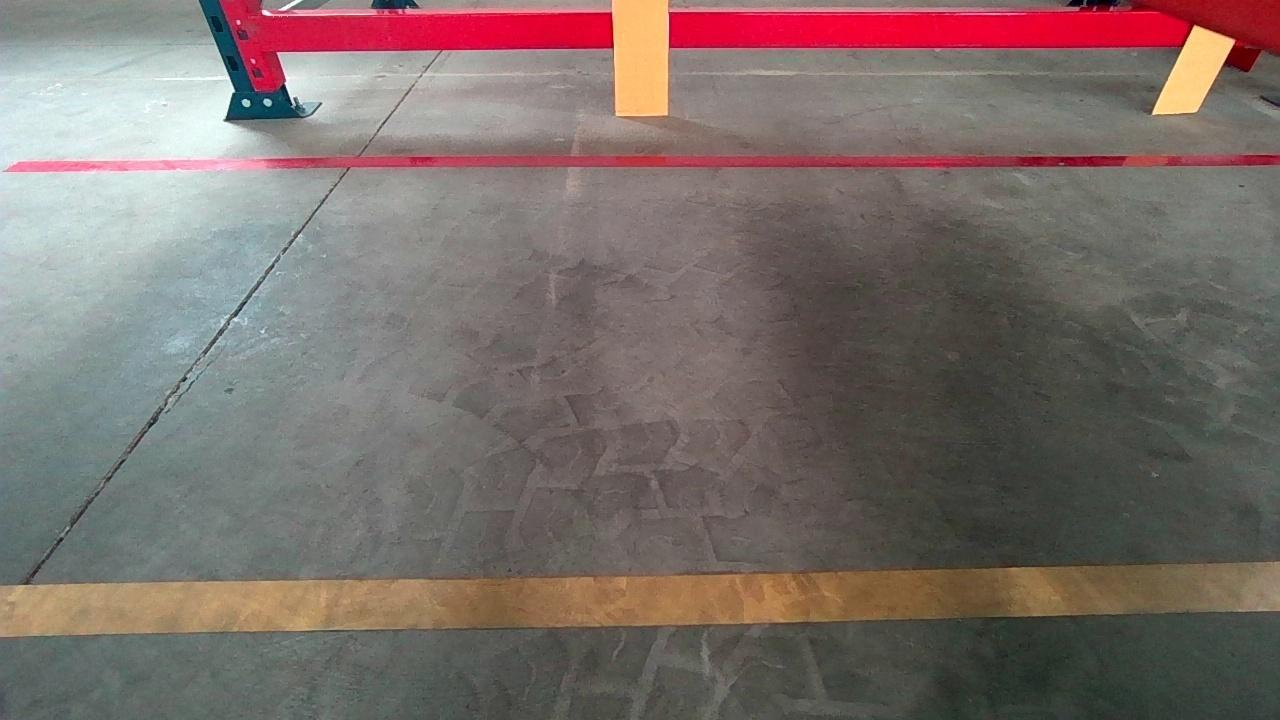h_rack: (265, 6, 1169, 58)
orange_strip: (1154, 23, 1237, 112), (613, 0, 670, 112)
red_line: (18, 147, 1275, 175)
